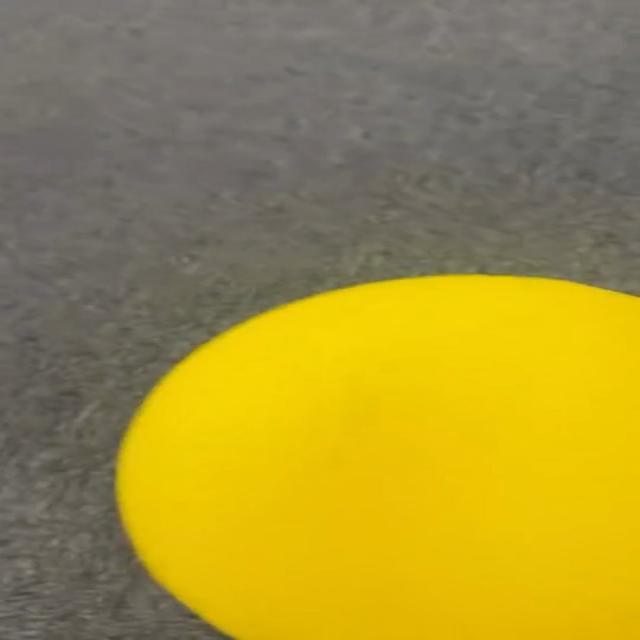Fuels: (117, 274, 638, 637)
